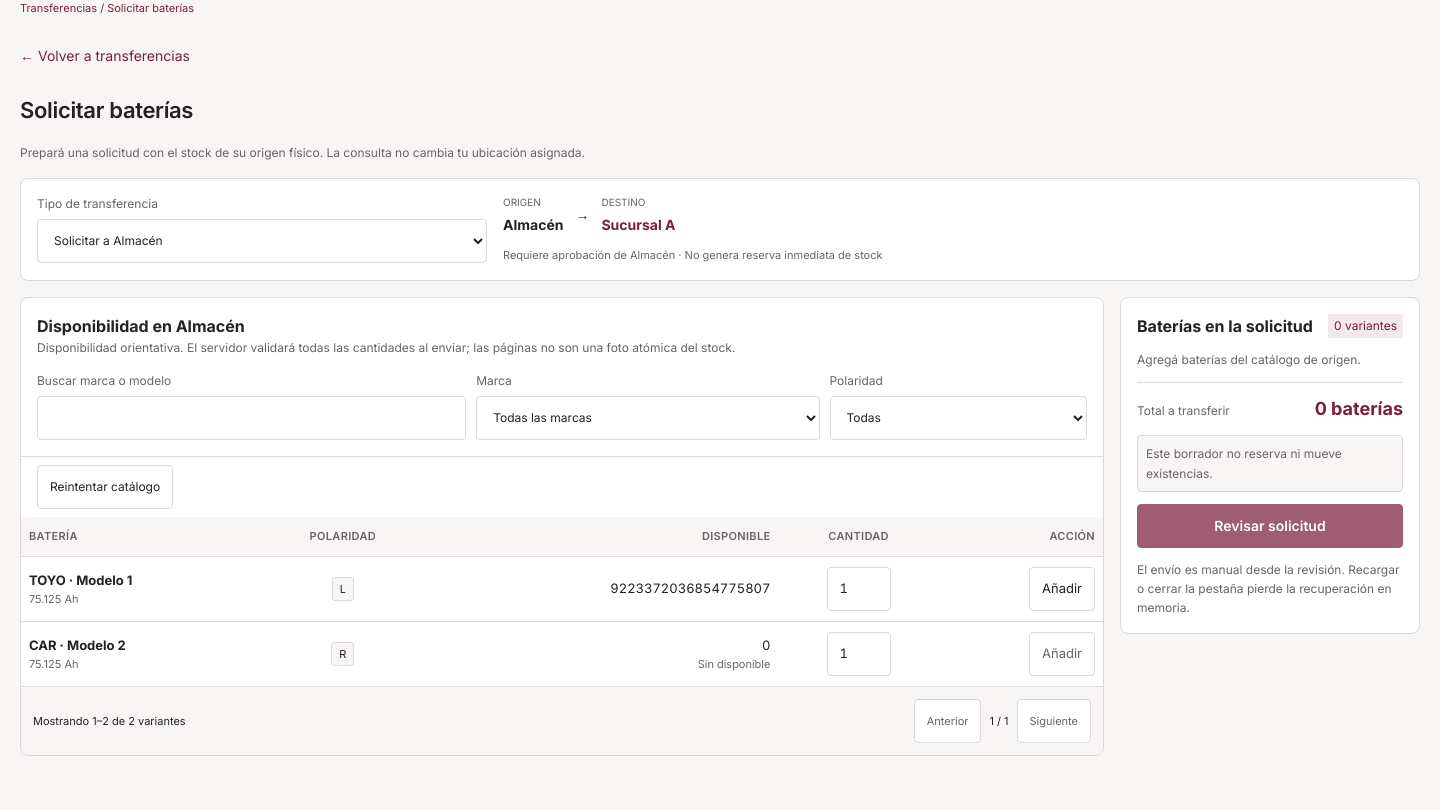
Test: R04b2c2 explicit review › opens a real Pending review for requestWarehouse without sending
Step 1. Click the button with aria-label "Añadir Modelo 1 L" → (1062, 589), box [1029,567,1095,611]
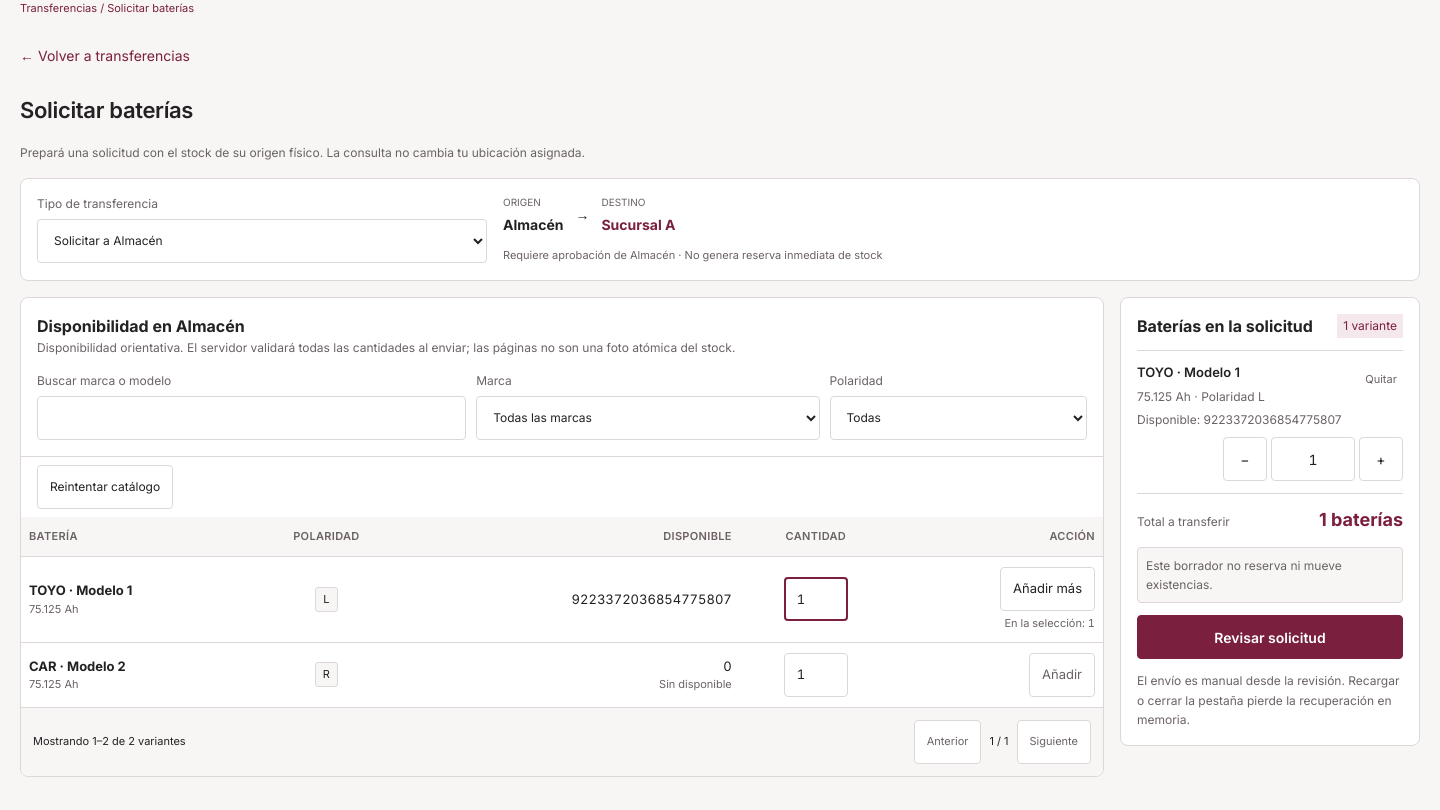
Step 2. Click the button "Revisar solicitud" → (1270, 637), box [1137,615,1403,659]
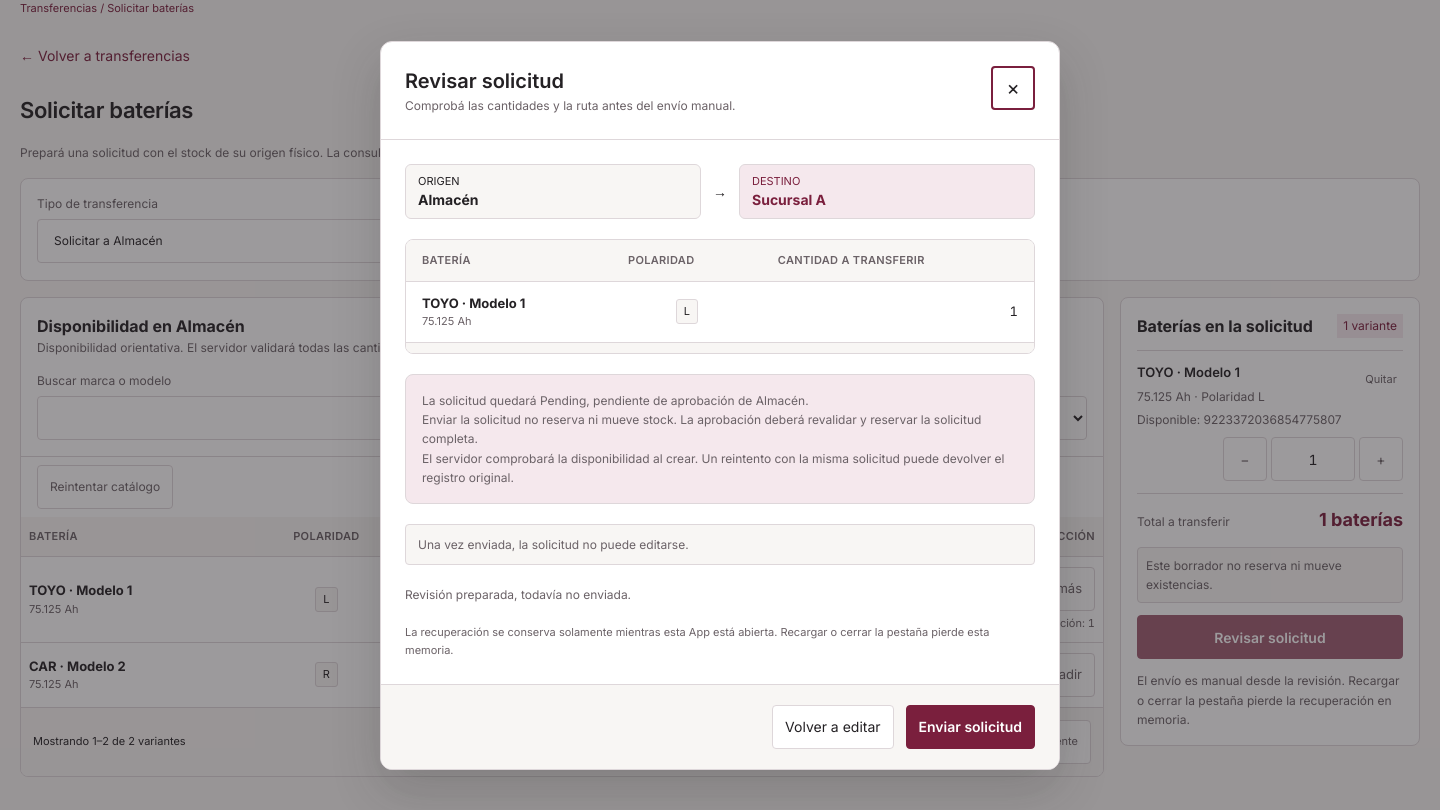
Expected: the text "75.125 Ah" is shown, [422,314,472,328]
Expected: the text "no reserva ni mueve stock" is shown, [422,412,981,446]
Expected: the button "Enviar solicitud" is enabled, [906,704,1035,748]
